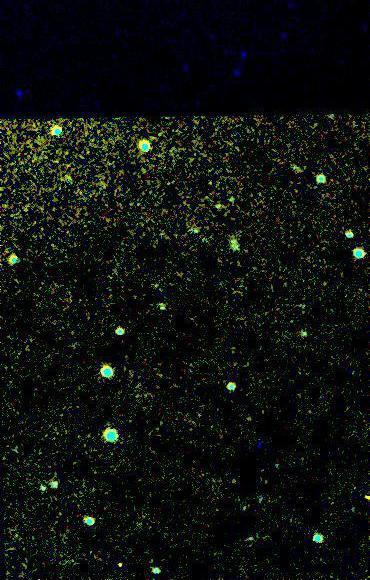star: (105, 549, 135, 579)
